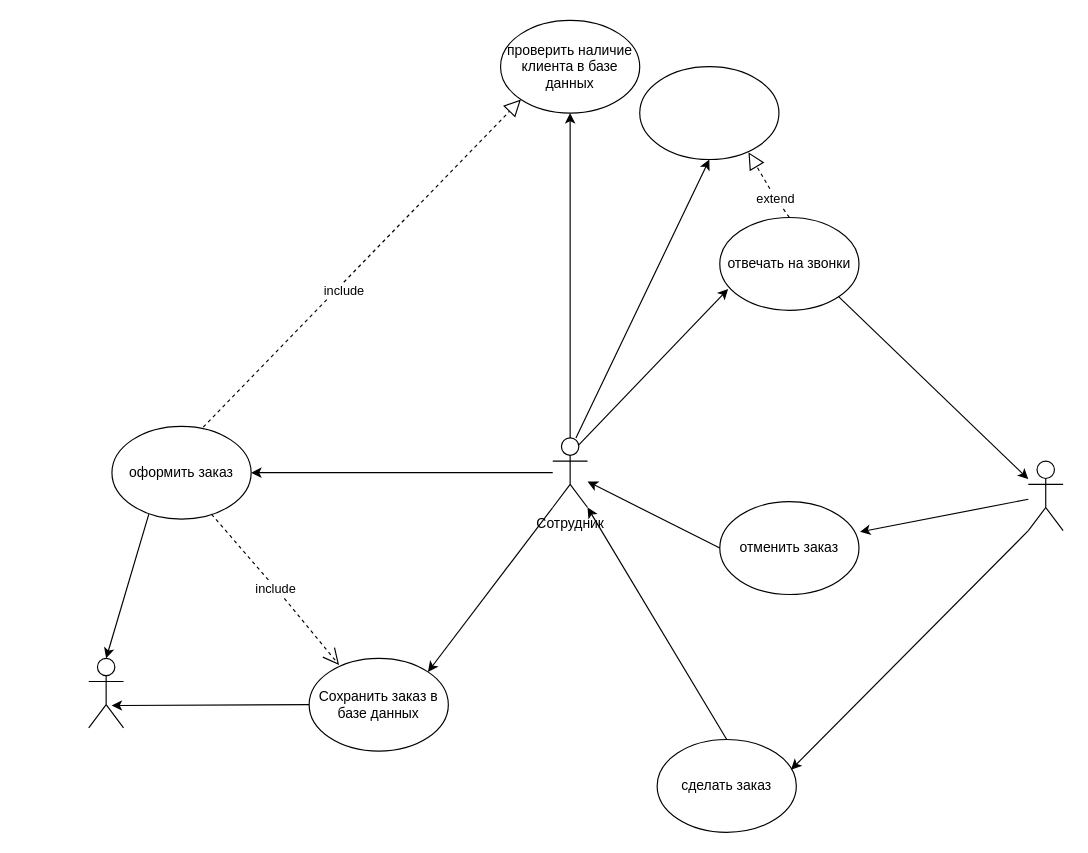
This 1088x853 diagram has some shape labels left out. The box of each missing label's shape, as (x1, y1, x2, y2) in pixels:
Информационная система: (88, 657, 124, 728)
клиент: (1027, 460, 1063, 531)
предоставить информацию о ценах: (639, 66, 779, 160)
